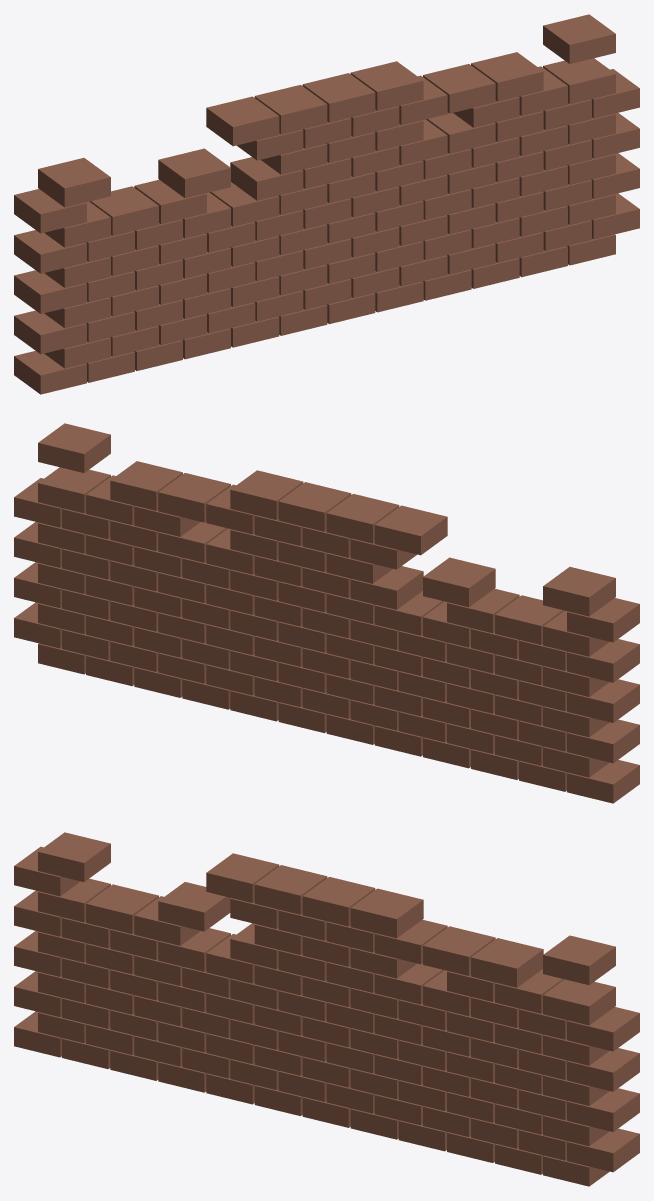
Rendered from ZR_LowWall_Brick.fbx.
3 views of the same model, one above another, from view 1: azimuth 30°, elevation 25°; view 2: azimuth 150°, elevation 25°; view 3: azimuth 330°, elevation 25° (orthographic).
Parts seen in each view (by area): view 1: ZR_LowWall_Brick; view 2: ZR_LowWall_Brick; view 3: ZR_LowWall_Brick.
Boxes of the visible parts, box(x1,y1,x2,y2) form: ZR_LowWall_Brick: box(14, 14, 639, 394); ZR_LowWall_Brick: box(14, 423, 639, 803); ZR_LowWall_Brick: box(14, 832, 639, 1186).
Size of the model in its own units: 3.12 by 1.09 by 0.24.
